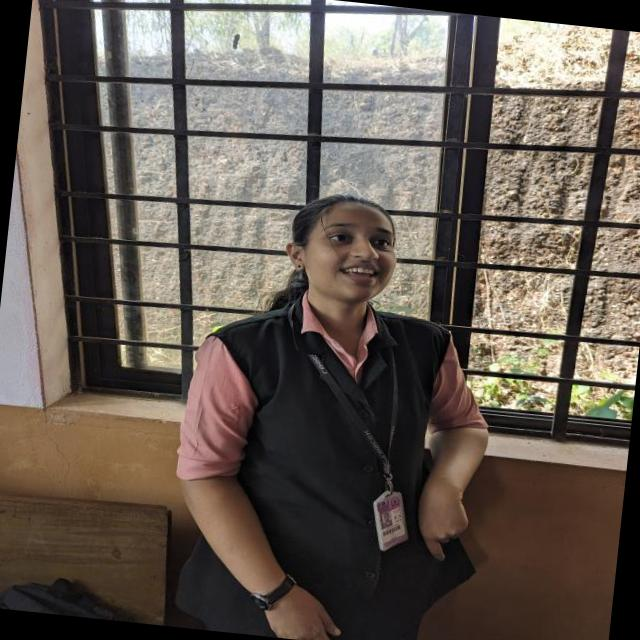id_card: (273, 312, 432, 554)
